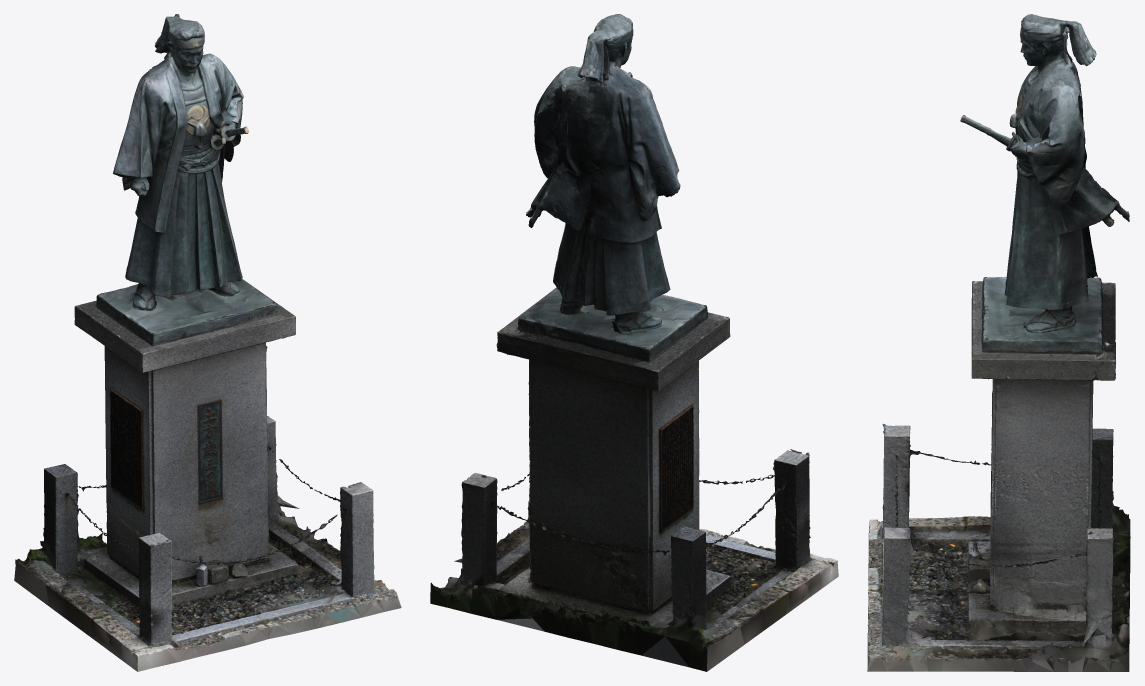
The picture shows the model from 3 angles, left to right: view 1: azimuth 30°, elevation 25°; view 2: azimuth 150°, elevation 25°; view 3: azimuth 270°, elevation 25°; orthographic projection. The views are drawn at different scales.
Parts seen in each view (by area): view 1: Object_4, Object_2, Object_3, Object_5; view 2: Object_4, Object_2, Object_3, Object_5; view 3: Object_4, Object_2, Object_3, Object_5.
Part boxes in pixels (left/top/right/bottom): Object_4: left=22, top=14, right=401, bottom=671; Object_2: left=14, top=14, right=397, bottom=670; Object_3: left=14, top=14, right=400, bottom=671; Object_5: left=29, top=17, right=372, bottom=671; Object_4: left=430, top=14, right=838, bottom=671; Object_2: left=430, top=15, right=837, bottom=671; Object_3: left=432, top=22, right=838, bottom=669; Object_5: left=430, top=36, right=810, bottom=635; Object_4: left=867, top=14, right=1130, bottom=671; Object_2: left=868, top=21, right=1130, bottom=671; Object_3: left=867, top=15, right=1129, bottom=671; Object_5: left=868, top=26, right=1129, bottom=671.
Size of the model in its own units: 37.01 by 74.56 by 30.27.
Materials: 1 (1 with a texture image).
